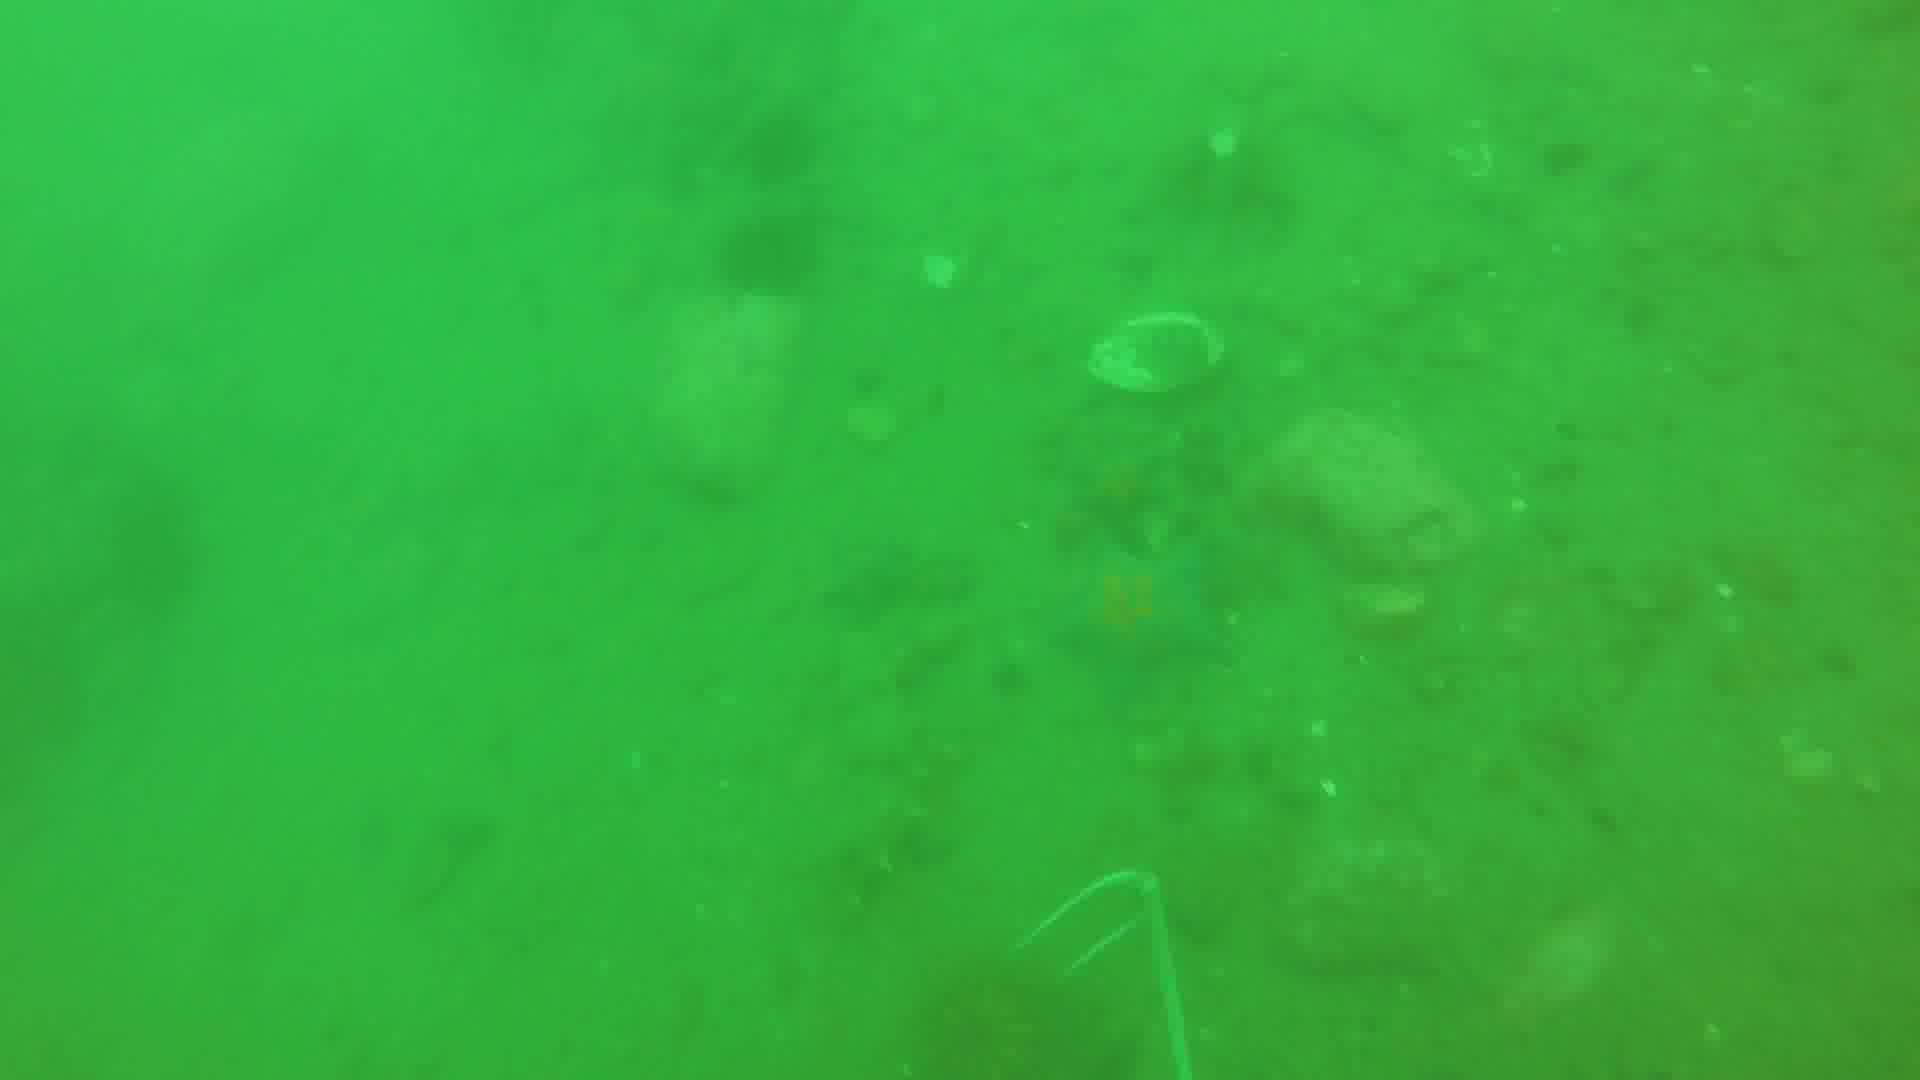echinus: (723, 198, 814, 301)
holothurian: (812, 773, 926, 930)
scallop: (1088, 315, 1233, 392)
starfish: (1047, 549, 1238, 699)
